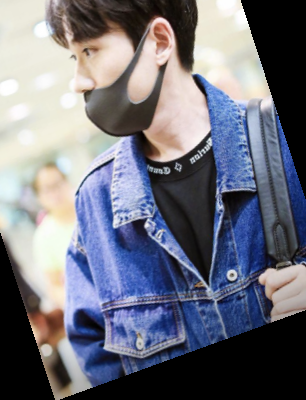mask_weared_incorrect: (25, 1, 217, 139)
